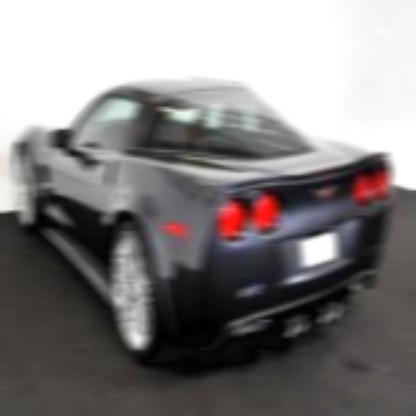Vehicle: (7, 66, 400, 377)
